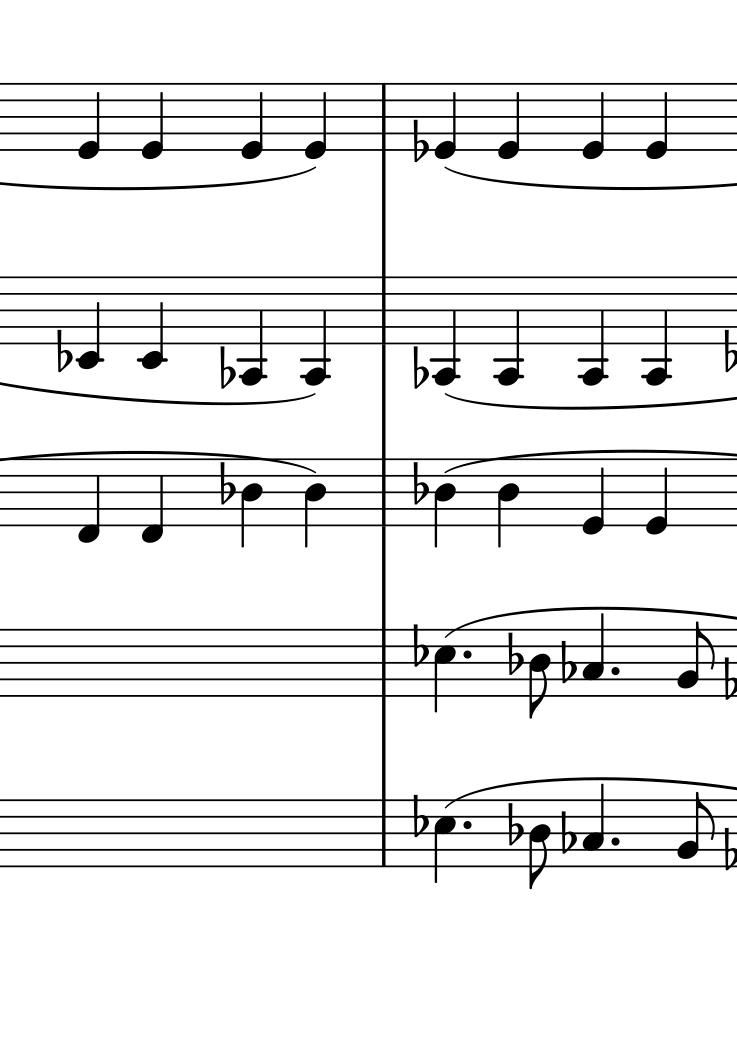4_-1: (76, 456, 104, 545), (142, 458, 167, 546)
4_-2: (138, 273, 166, 373), (76, 273, 104, 372)
4_-4: (576, 275, 609, 389), (299, 273, 331, 390), (431, 272, 461, 388), (493, 272, 523, 387), (641, 275, 670, 387), (238, 275, 267, 385)
4_0: (641, 80, 671, 162), (579, 79, 608, 160), (643, 457, 671, 539), (75, 81, 104, 160), (581, 457, 608, 540), (302, 80, 330, 160), (140, 82, 168, 161), (433, 81, 460, 162), (239, 82, 266, 161), (496, 81, 522, 163)
4_3: (580, 612, 608, 699), (580, 781, 607, 868)
4_4: (302, 457, 330, 547), (495, 457, 522, 549), (238, 456, 264, 551), (433, 457, 457, 551)
4_5: (433, 628, 460, 717), (432, 796, 458, 883)
8_2: (677, 791, 716, 868), (678, 622, 715, 697)
8_4: (526, 798, 554, 890), (527, 627, 554, 717)
Flat: (409, 622, 430, 670), (410, 116, 430, 165), (557, 808, 576, 856), (411, 793, 430, 840), (558, 640, 576, 689), (218, 344, 237, 390), (506, 628, 523, 679), (216, 462, 234, 508), (721, 822, 737, 873), (412, 342, 428, 391), (507, 801, 523, 849), (55, 329, 72, 374), (412, 462, 430, 504)
Single_barline: (374, 459, 394, 526), (374, 630, 393, 697), (374, 84, 393, 150), (374, 801, 393, 866), (376, 277, 392, 343), (504, 632, 516, 686), (504, 803, 516, 851)
dot: (459, 647, 474, 661), (610, 663, 622, 679), (460, 818, 473, 832), (607, 835, 621, 847)
